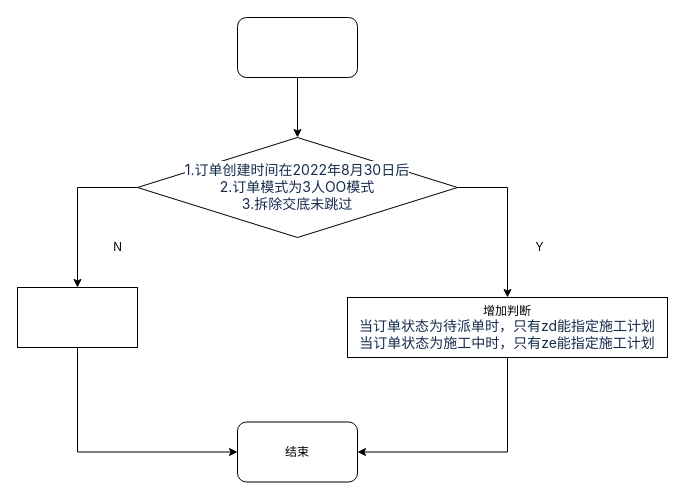
This 685x500 diagram has some shape labels left out. Each missing label, with the box of its shape:
制定施工计划: (236, 16, 358, 78)
走现有逻辑: (16, 286, 138, 348)
